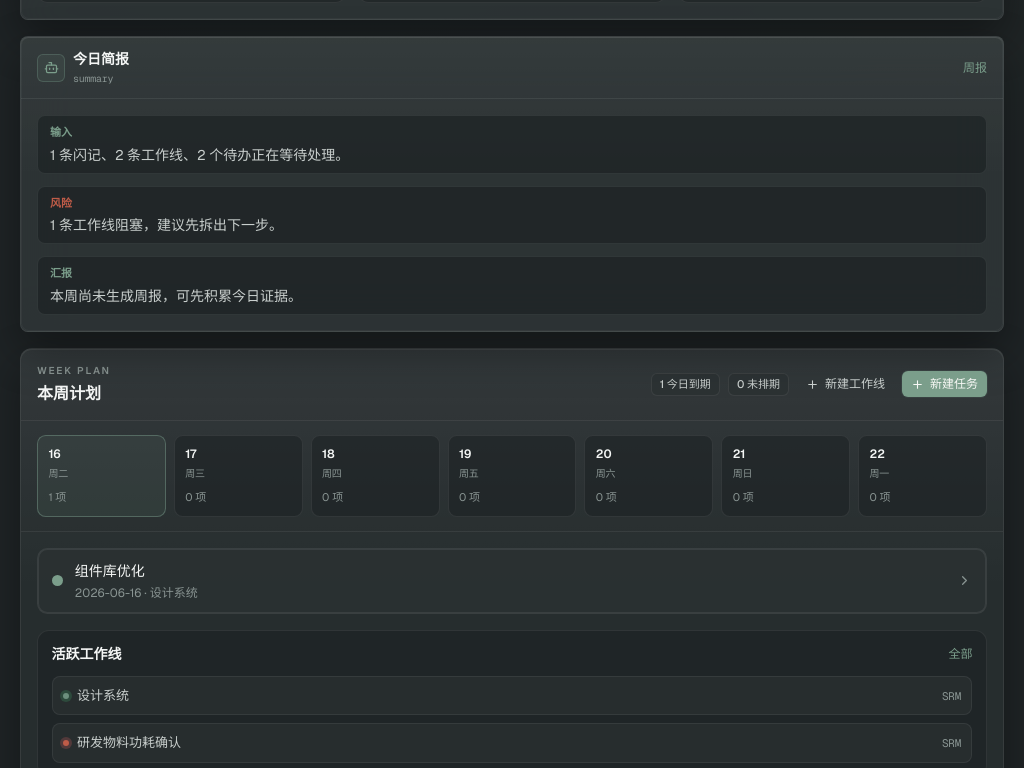
Test: Home › opens new workline creation from the planner
(page scrolled)
Click the button "新建工作线" at (846, 384), box top-left (797, 371), bottom-right (894, 397)
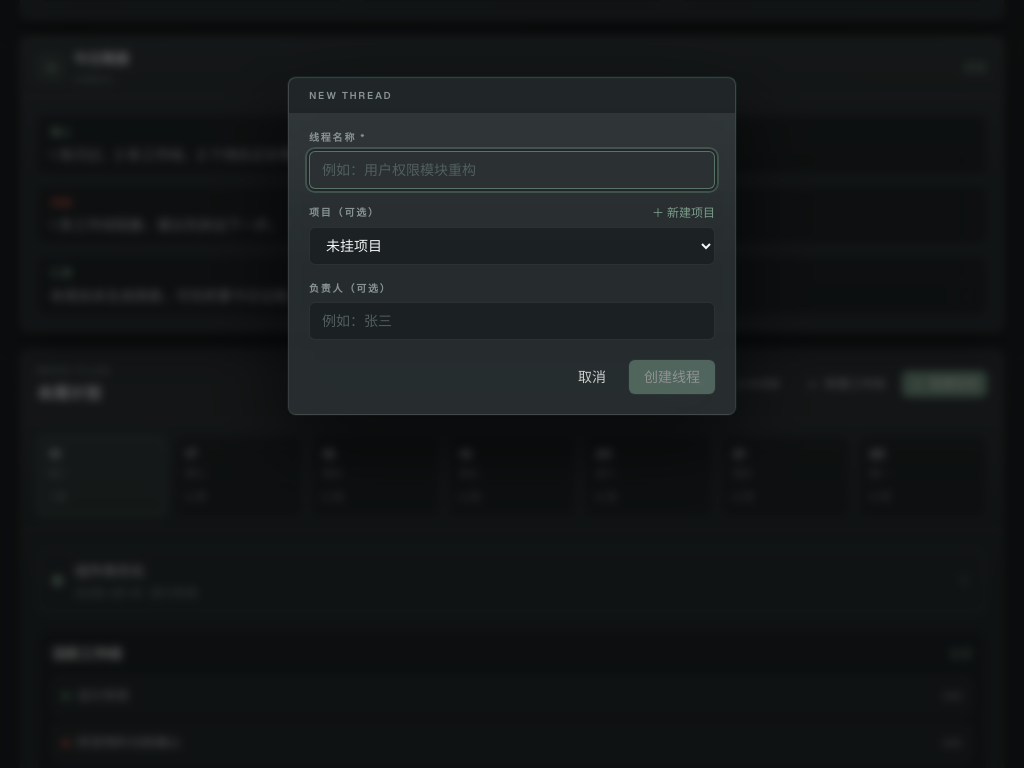
Expected: the text "NEW THREAD" is shown, top-left (309, 88), bottom-right (392, 103)
Expected: the field with placeholder "例如：用户权限模块重构" is shown, top-left (309, 151), bottom-right (715, 189)
